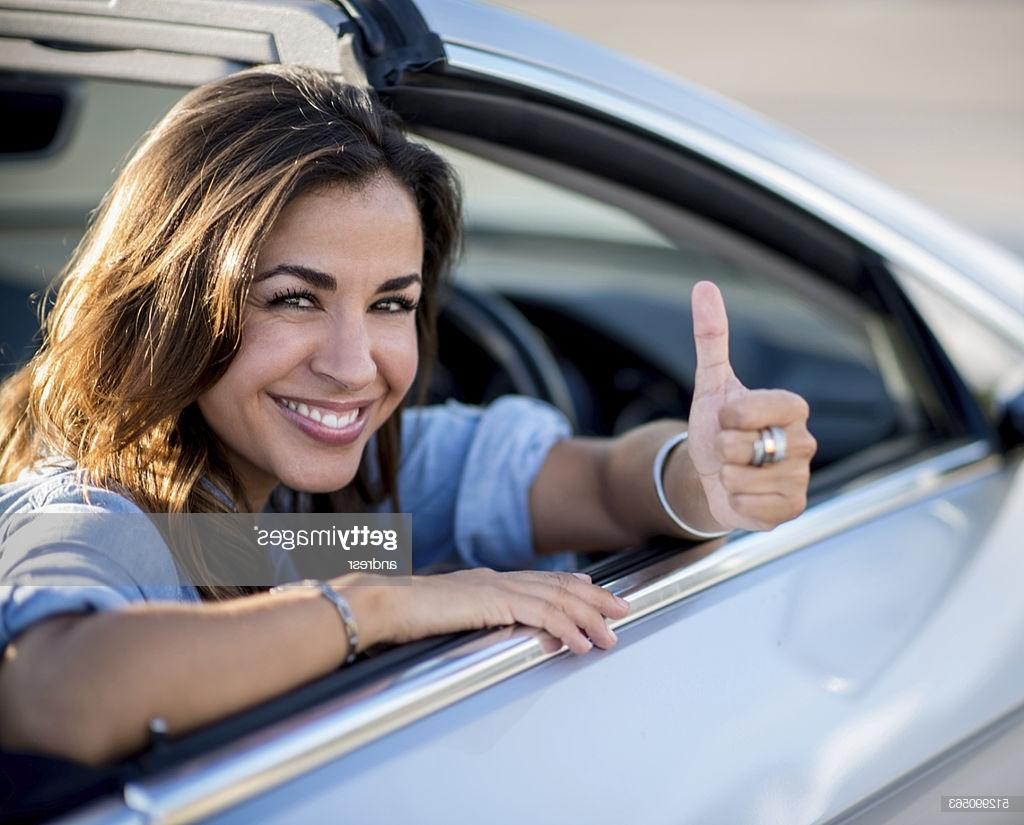thumbsup: (690, 279, 819, 523)
